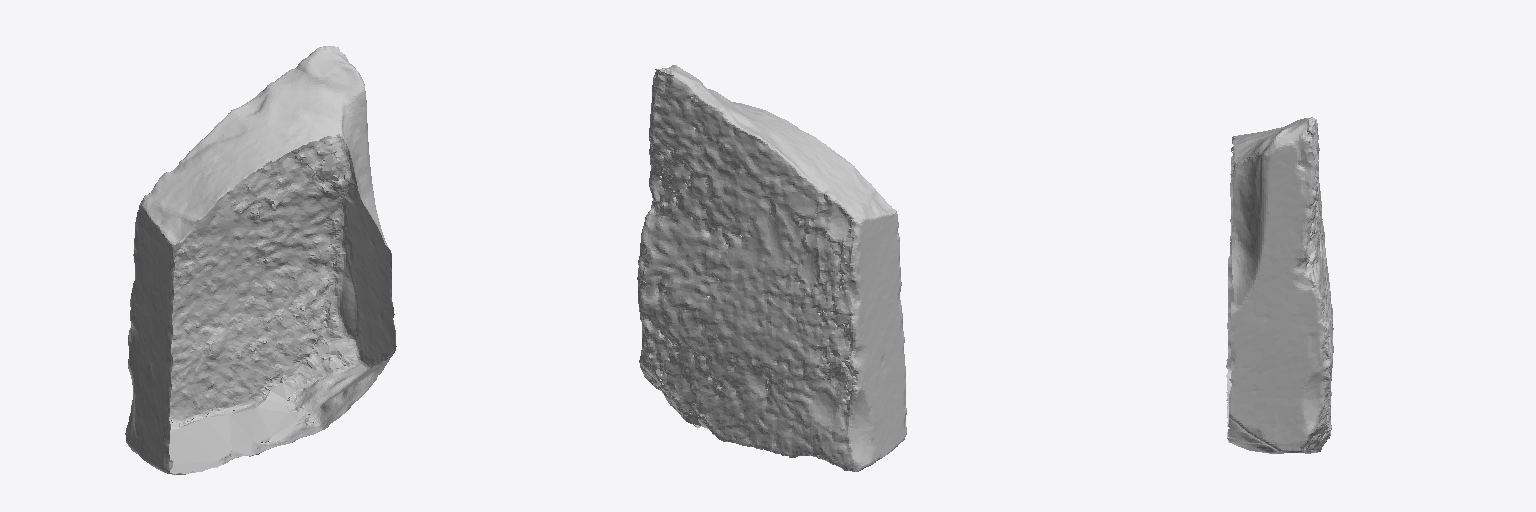
File: back.obj
3 views of the same model, side by side, from view 1: azimuth 30°, elevation 25°; view 2: azimuth 150°, elevation 25°; view 3: azimuth 270°, elevation 25° (orthographic).
Bounding box in the file's own units: 0.7685 × 1.13 × 0.3111.